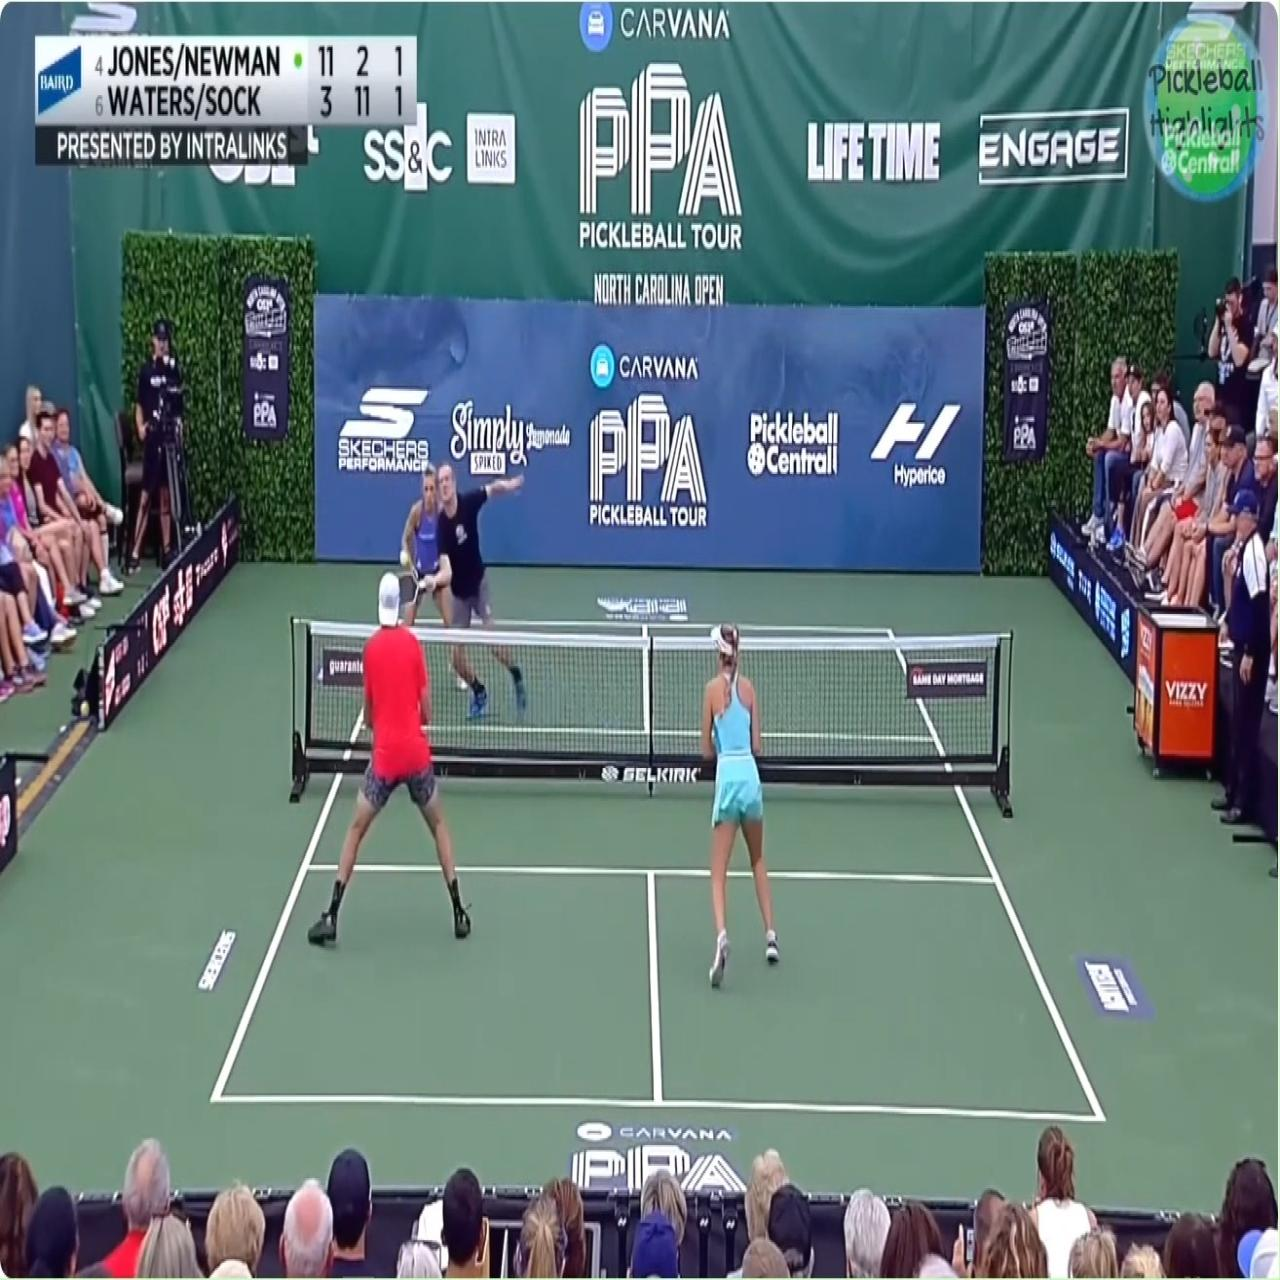pickleball: (400, 550, 408, 566)
